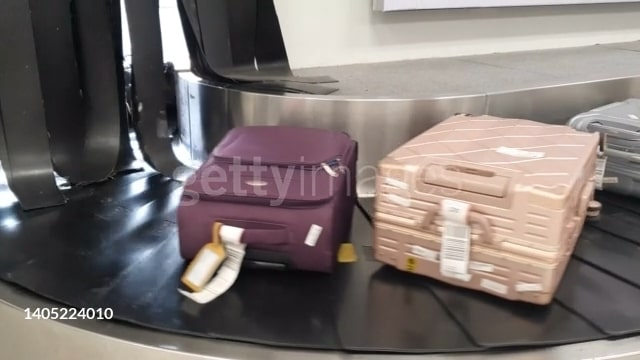baggage: (370, 104, 602, 307), (170, 117, 356, 294), (564, 96, 640, 195)
